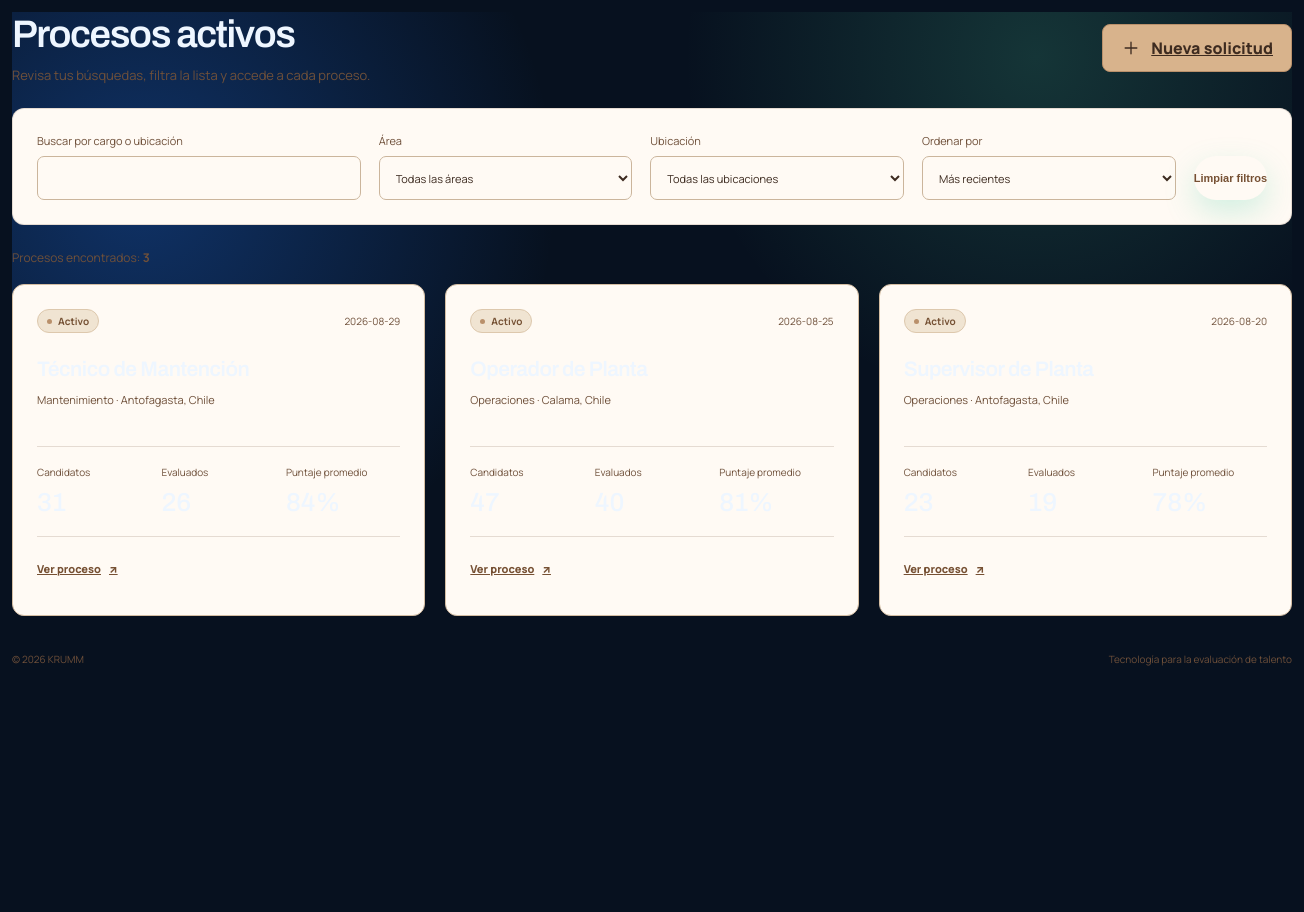
D. CompanyProcessesPage (ref processes.html/js — filtros y sort operativos) › búsqueda sin coincidencias → empty state + count 0
Type "zzz" into the search field labelled "Buscar por cargo o ubicación" at point(199, 178), box x1=37 y1=156 x2=361 y2=200
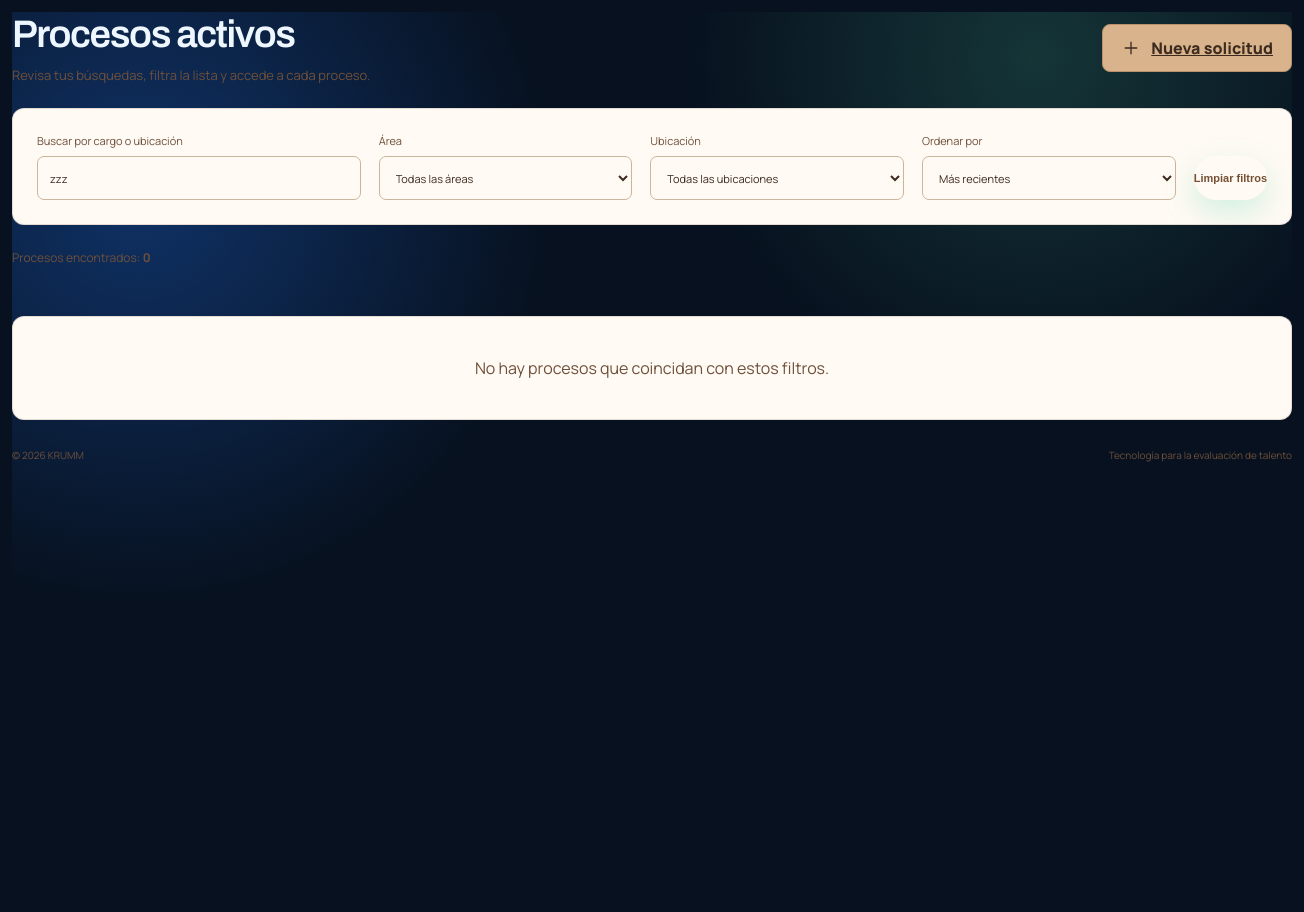
Expected: the text with test id "v2-process-count" reads "0", x1=143 y1=249 x2=151 y2=266
Expected: the text with test id "v2-procs-empty" reads "No hay procesos que coincidan con estos filtros.", x1=475 y1=357 x2=829 y2=379
